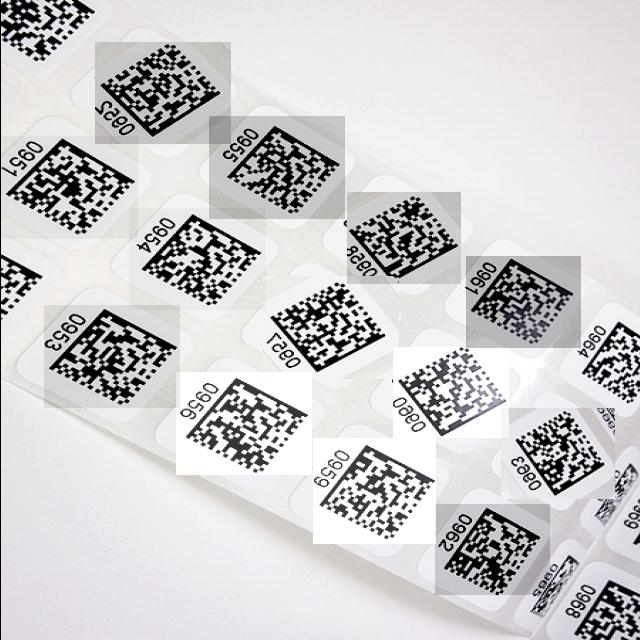DataMatrix: (0, 136, 137, 239), (175, 372, 311, 475), (262, 276, 398, 379), (208, 116, 344, 219), (43, 305, 179, 408), (128, 208, 265, 310), (94, 42, 230, 144), (312, 438, 435, 544), (465, 256, 580, 348), (392, 347, 508, 438), (346, 192, 460, 284), (434, 504, 549, 595), (500, 408, 614, 499)
